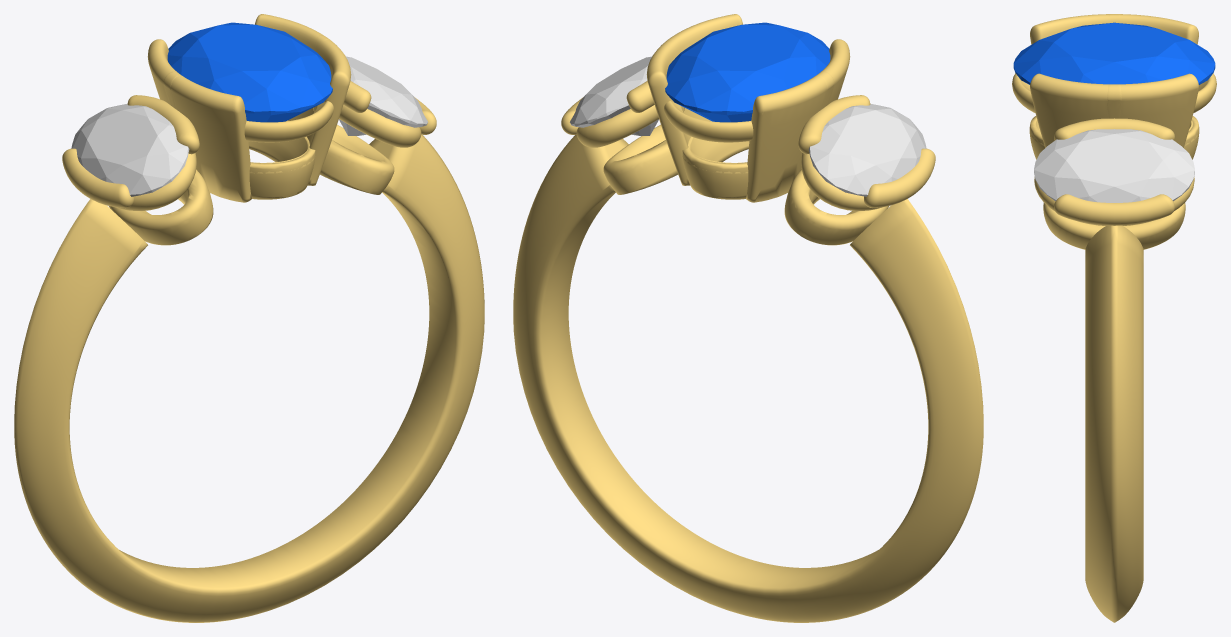
Rendered from bluesapphire-oval-yellowgold-halfmoonbezel-knifeedge-3stone.glb.
The picture shows the model from 3 angles, left to right: view 1: azimuth 30°, elevation 25°; view 2: azimuth 150°, elevation 25°; view 3: azimuth 270°, elevation 25°; orthographic projection. The views are drawn at different scales.
Visible parts, largest first — view 1: metal, stone.003, side.006, side.007; view 2: metal, stone.003, side.006, side.007; view 3: metal, side.007, stone.003.
Part boxes in pixels (left/top/right/bottom): metal: left=14, top=14, right=484, bottom=622; stone.003: left=167, top=22, right=332, bottom=122; side.006: left=71, top=103, right=189, bottom=196; side.007: left=339, top=56, right=427, bottom=135; metal: left=513, top=14, right=983, bottom=622; stone.003: left=665, top=22, right=830, bottom=122; side.006: left=808, top=103, right=926, bottom=196; side.007: left=570, top=56, right=658, bottom=135; metal: left=1012, top=14, right=1216, bottom=622; side.007: left=1034, top=129, right=1194, bottom=202; stone.003: left=1013, top=22, right=1215, bottom=84.
Bounding box in the file's own units: 20.1 × 23.2 × 7.75.
